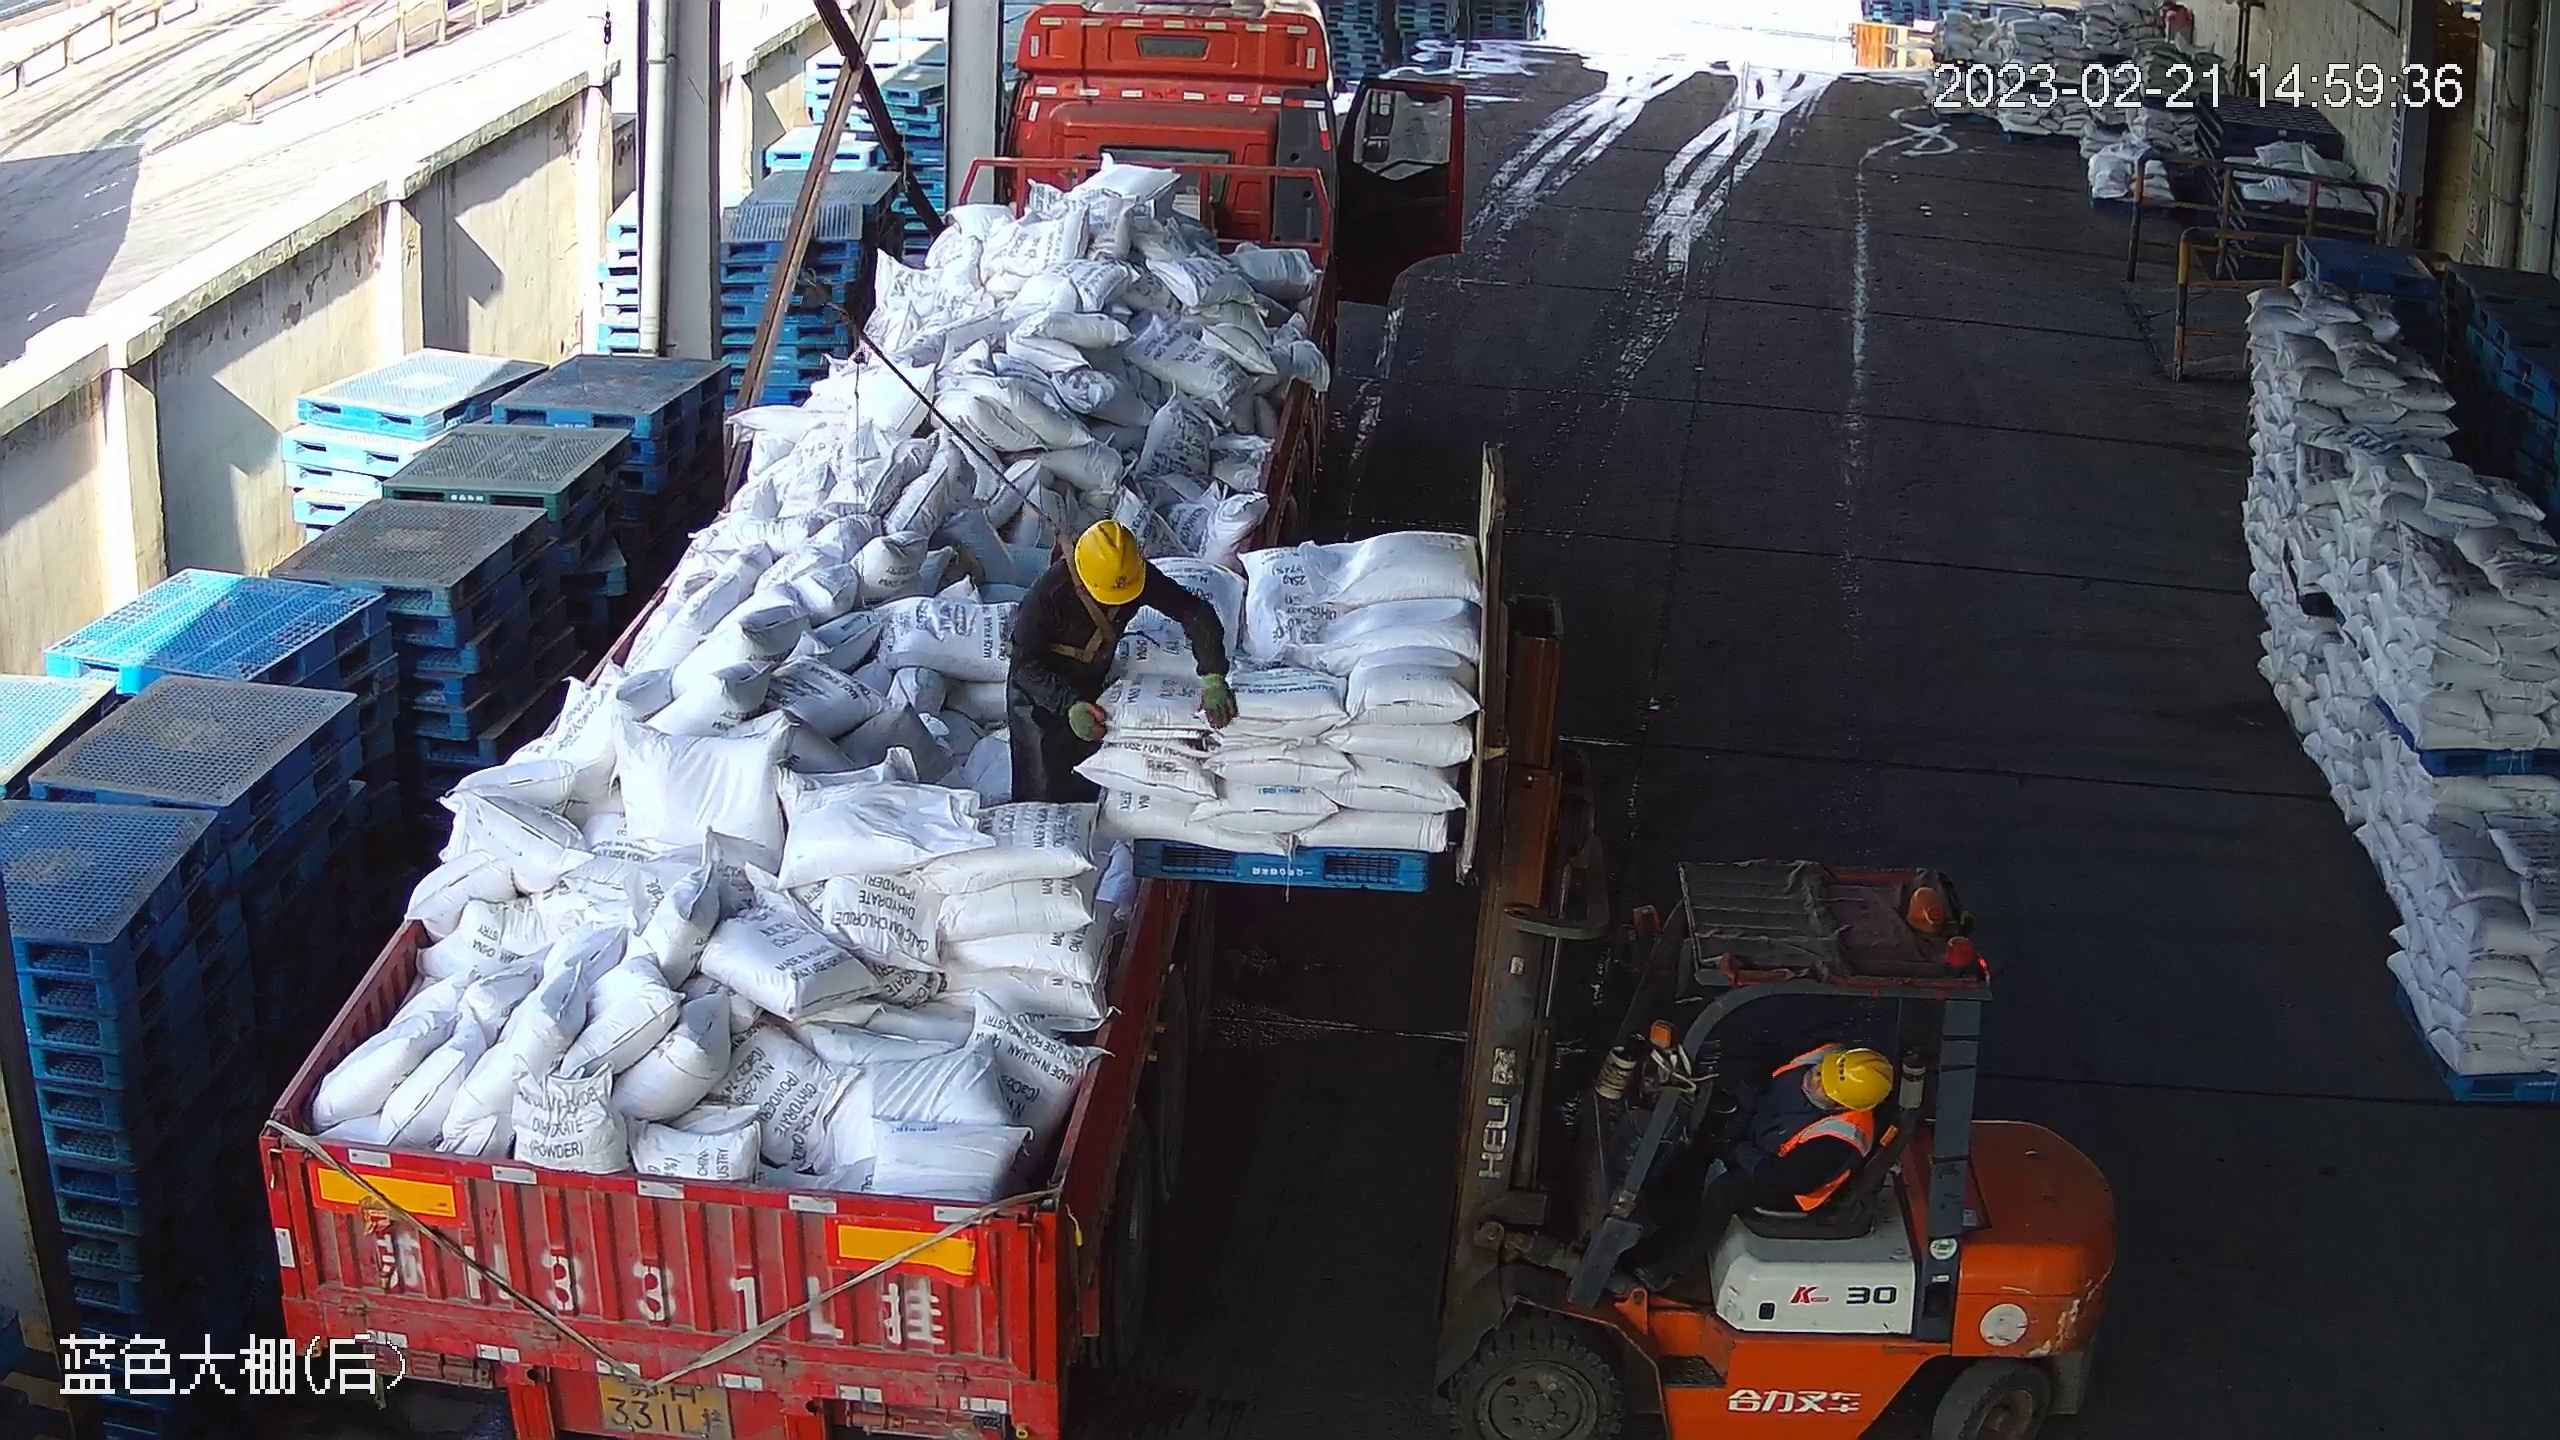belt: (1047, 521, 1122, 662)
head: (1019, 519, 1167, 638), (1779, 1041, 1897, 1167)
helmet: (1073, 520, 1147, 607), (1821, 1047, 1895, 1111)
people: (1625, 1040, 1896, 1293), (1004, 518, 1241, 806)
truck: (256, 3, 1470, 1440)
